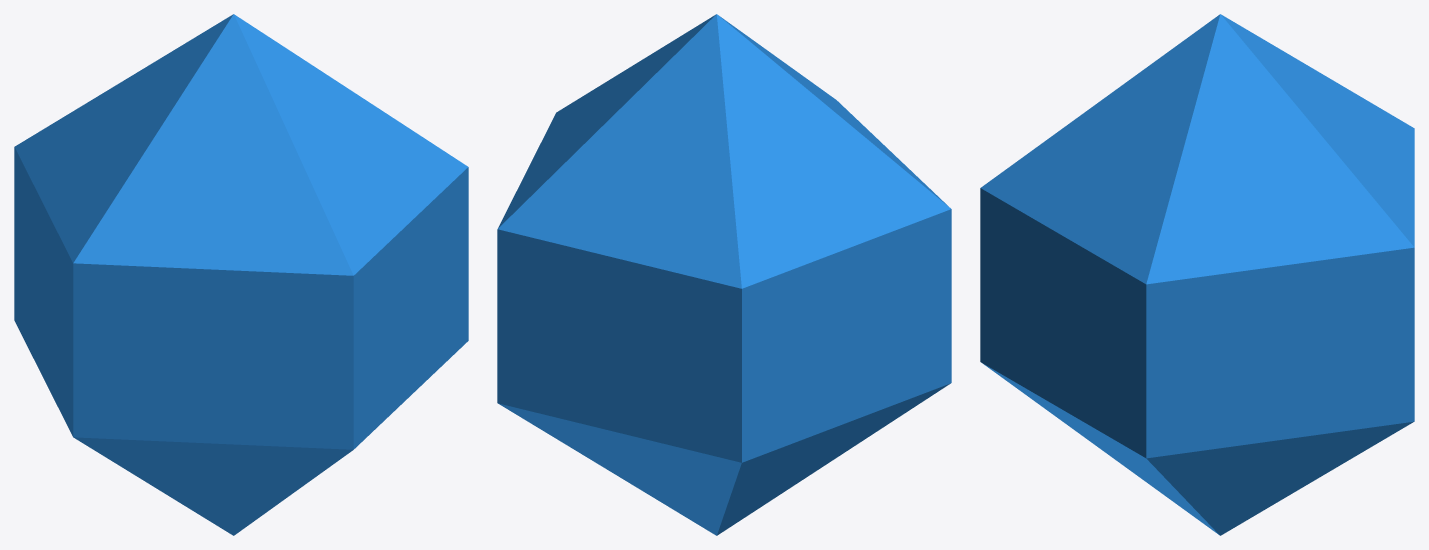
Rendered from demo-mesh.obj.
3 views of the same model, side by side, from view 1: azimuth 30°, elevation 25°; view 2: azimuth 150°, elevation 25°; view 3: azimuth 270°, elevation 25° (orthographic).
Parts seen in each view (by area): view 1: DemoStar; view 2: DemoStar; view 3: DemoStar.
Boxes of the visible parts, x1,y1,x2,y2 form: DemoStar: (14, 14, 468, 535); DemoStar: (497, 14, 951, 535); DemoStar: (980, 14, 1414, 535).
Size of the model in its own units: 1.9 by 2.4 by 1.81.
